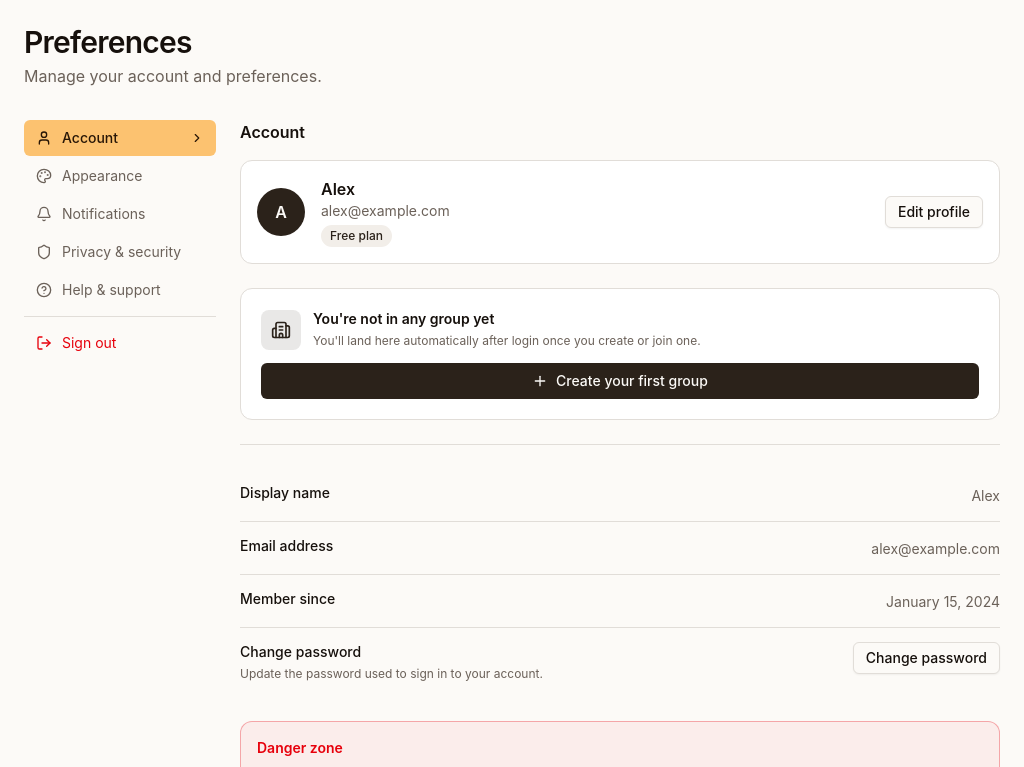
Test: <SettingsPage /> › account danger zone's delete button opens the delete-account dialog
Click the button with test id "settings-nav-account" at x=120, y=138, box top-left (24, 120), bottom-right (216, 156)
(page scrolled)
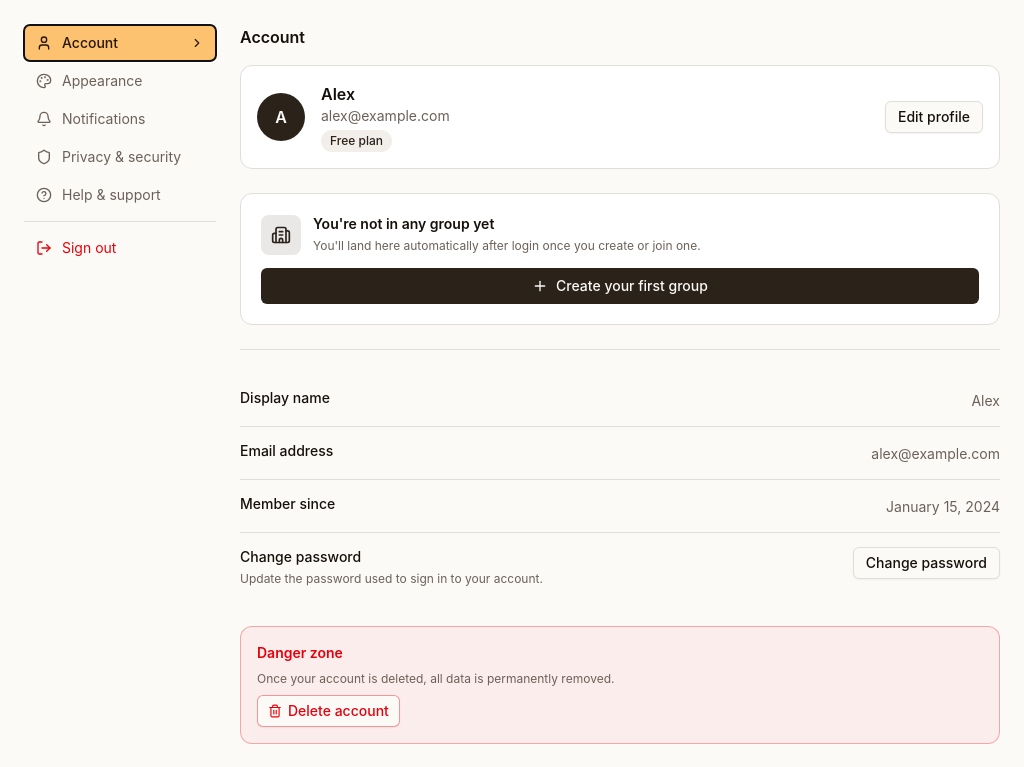
Click the button with test id "delete-account-button" at x=328, y=711, box top-left (257, 695), bottom-right (400, 727)
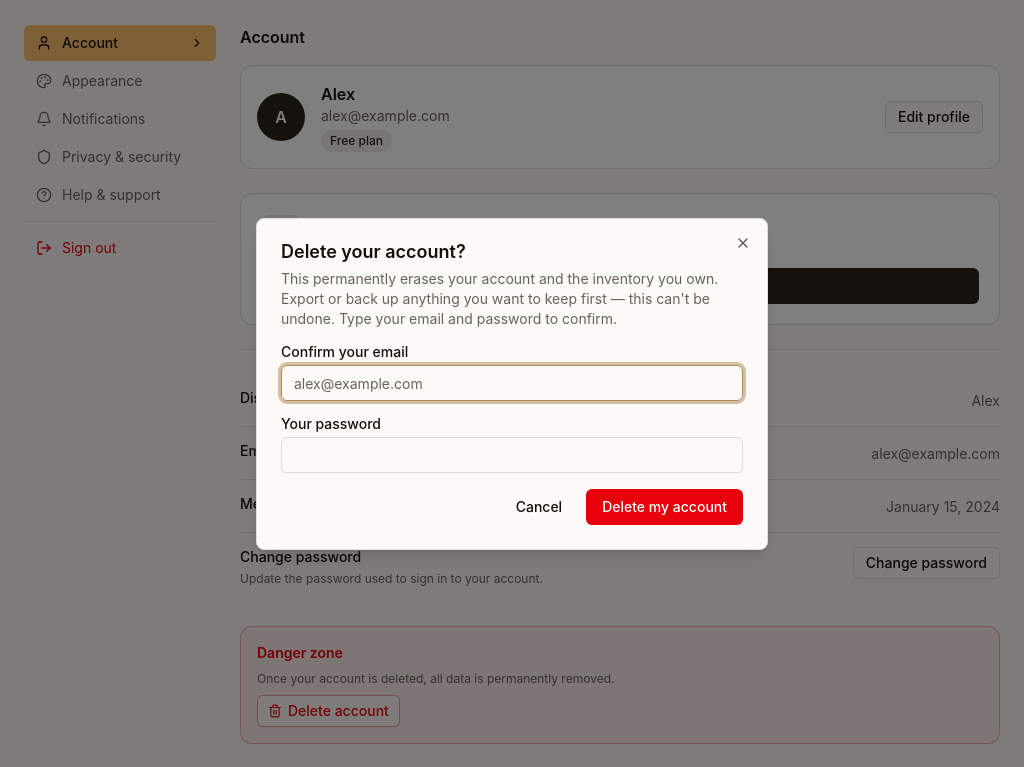
Check: the dialog with test id "delete-account-dialog" is shown, box top-left (256, 218), bottom-right (768, 550)
Check: the field with test id "delete-confirm-email" is shown, box top-left (281, 365), bottom-right (743, 401)
Check: the password field with test id "delete-password" is shown, box top-left (281, 437), bottom-right (743, 473)
